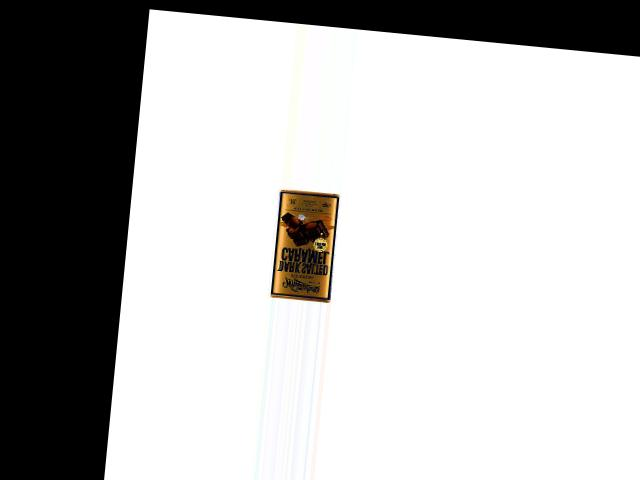chocolate: (268, 186, 345, 302)
